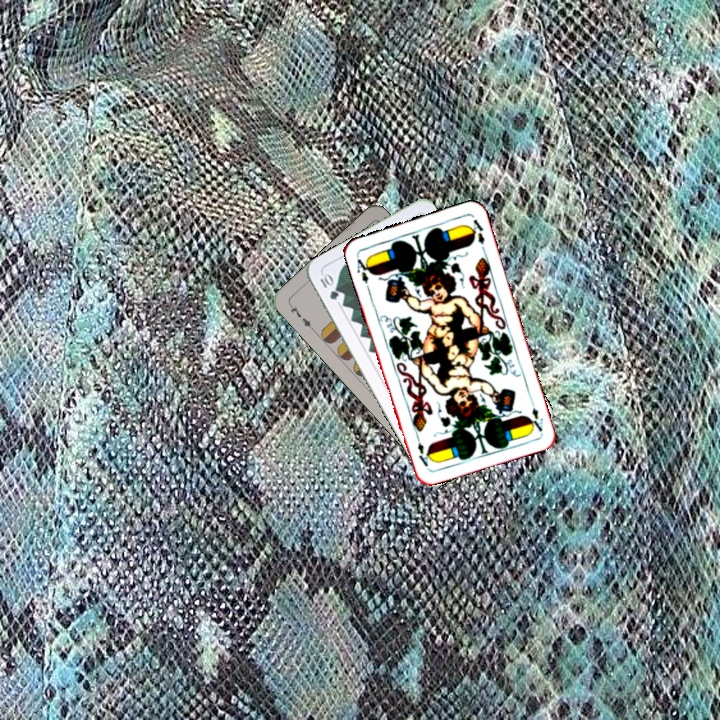E7: (285, 300, 316, 333)
EA: (525, 394, 546, 434), (353, 255, 375, 286)
G10: (316, 270, 341, 302)
